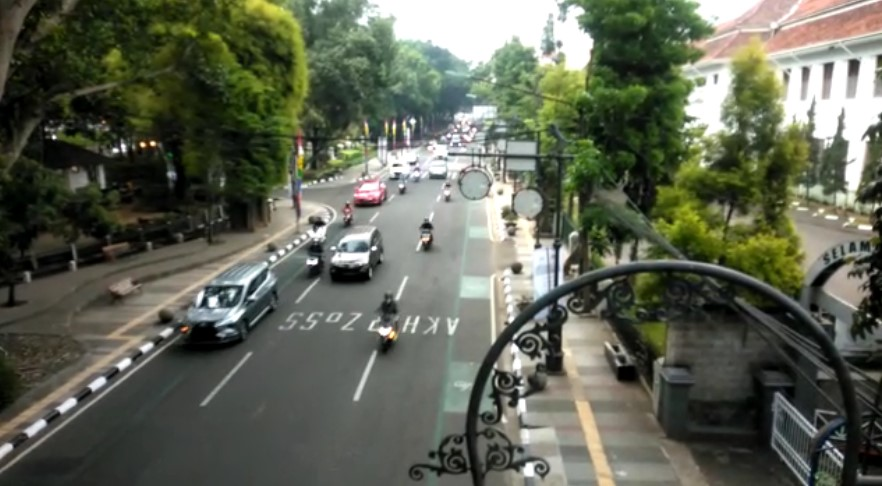mobil: (175, 260, 276, 351), (331, 223, 383, 279), (352, 180, 389, 209)
motor: (372, 292, 404, 351), (303, 236, 325, 278), (416, 219, 438, 249), (335, 201, 352, 225)
